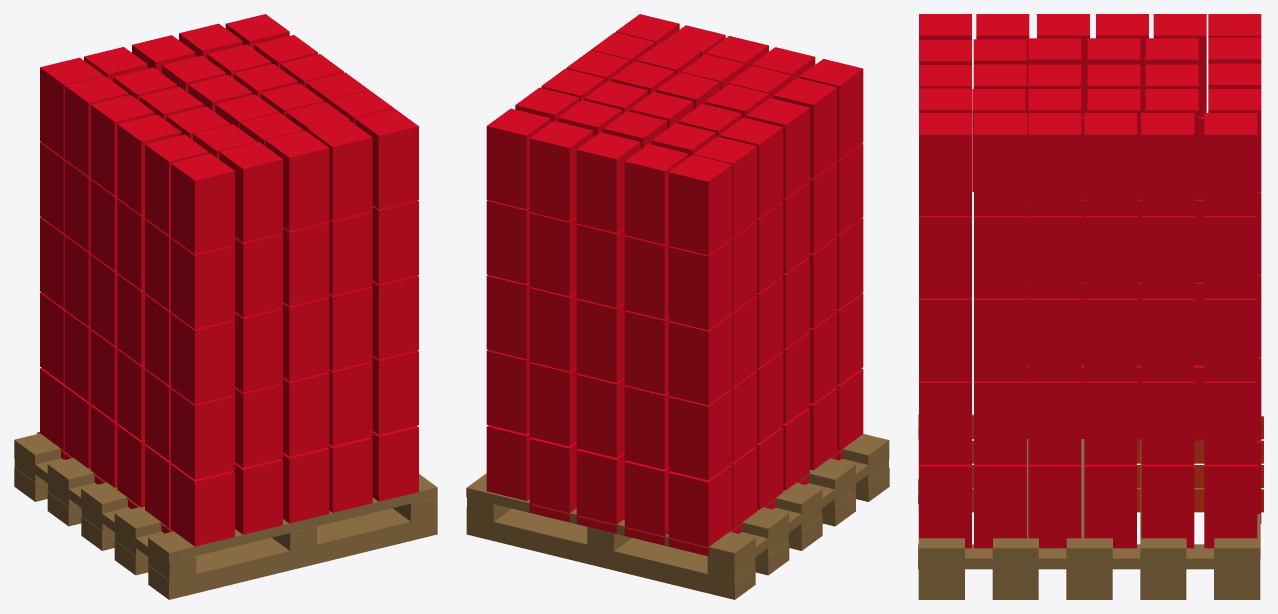
File: PALLET DE CAJAS.fbx
3 renders of one model, left to right at view 1: azimuth 30°, elevation 25°; view 2: azimuth 150°, elevation 25°; view 3: azimuth 270°, elevation 25°, orthographic. The views are drawn at different scales.
Parts seen in each view (by area): view 1: Cube.014, Cube.008; view 2: Cube.014, Cube.008; view 3: Cube.014, Cube.008.
Part boxes in pixels (x1,y1,x2,y2): Cube.014: [40, 14, 418, 546]; Cube.008: [14, 432, 437, 599]; Cube.014: [486, 14, 863, 556]; Cube.008: [466, 434, 889, 599]; Cube.014: [919, 14, 1261, 548]; Cube.008: [918, 414, 1263, 599].
Bounding box in the file's own units: 120 × 176 × 121.
